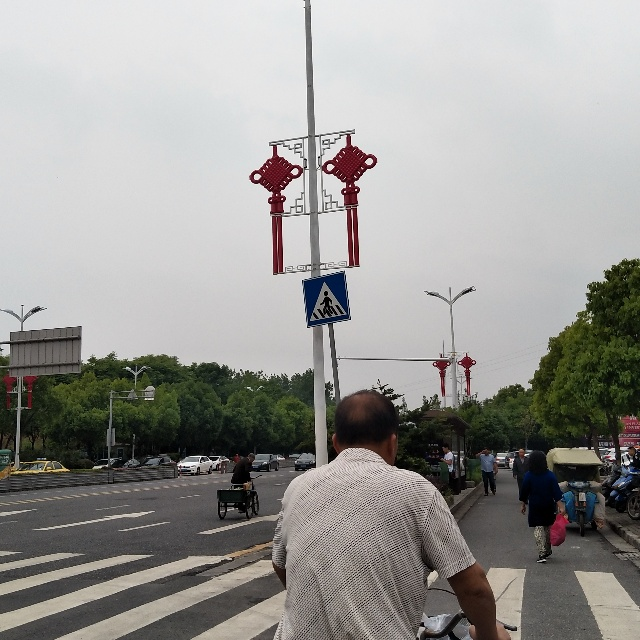crosswalk: (298, 269, 355, 331)
